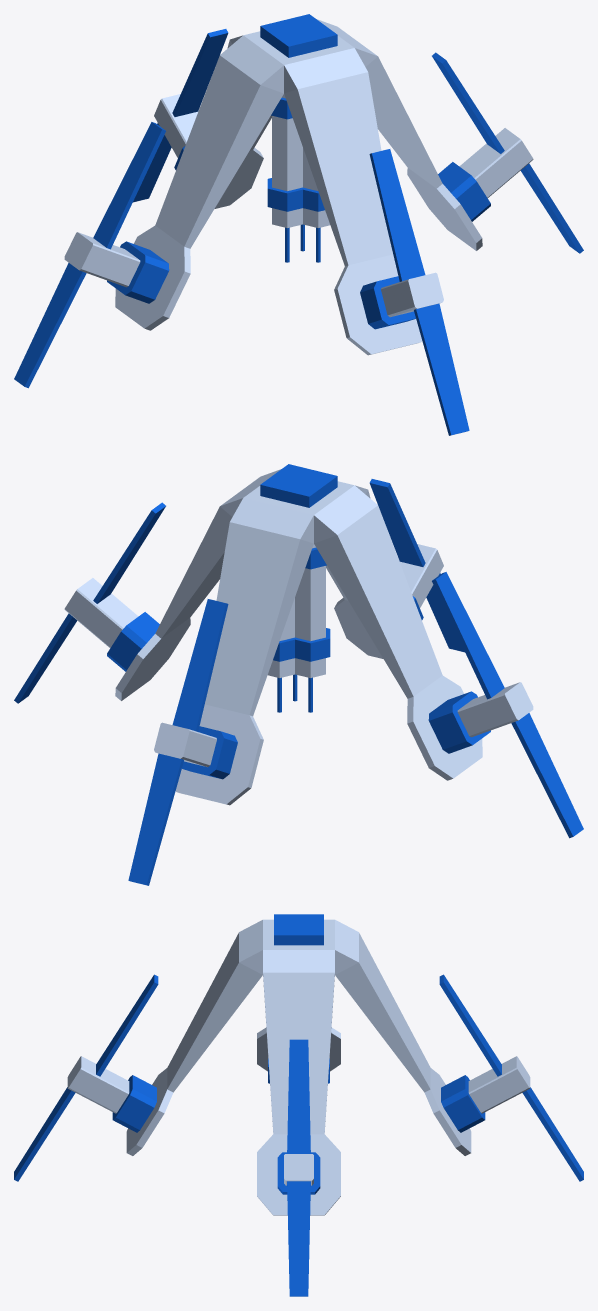
File: Transition_Drone_1.fbx
The picture shows the model from 3 angles, top to bottom: view 1: azimuth 30°, elevation 25°; view 2: azimuth 150°, elevation 25°; view 3: azimuth 270°, elevation 25°; orthographic projection. The views are drawn at different scales.
Parts seen in each view (by area): view 1: TransitionDrone1; view 2: TransitionDrone1; view 3: TransitionDrone1.
Boxes of the visible parts, box(x1,y1,x2,y2) form: TransitionDrone1: box(14, 14, 583, 435); TransitionDrone1: box(14, 464, 583, 885); TransitionDrone1: box(14, 914, 583, 1296).
Size of the model in its own units: 15.63 by 7.66 by 15.63.
Materials: 1 (1 with a texture image).
